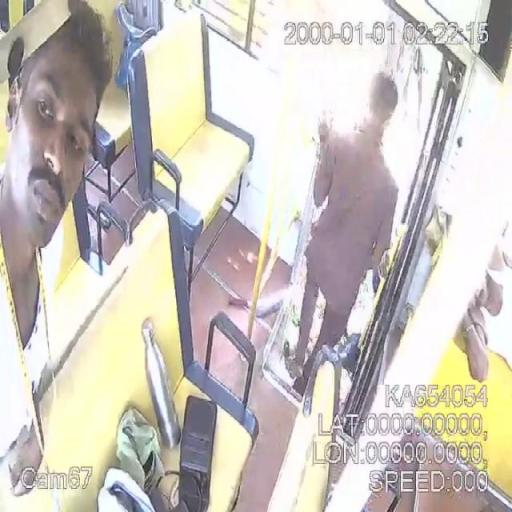persona: (0, 1, 116, 509), (288, 70, 400, 392)
